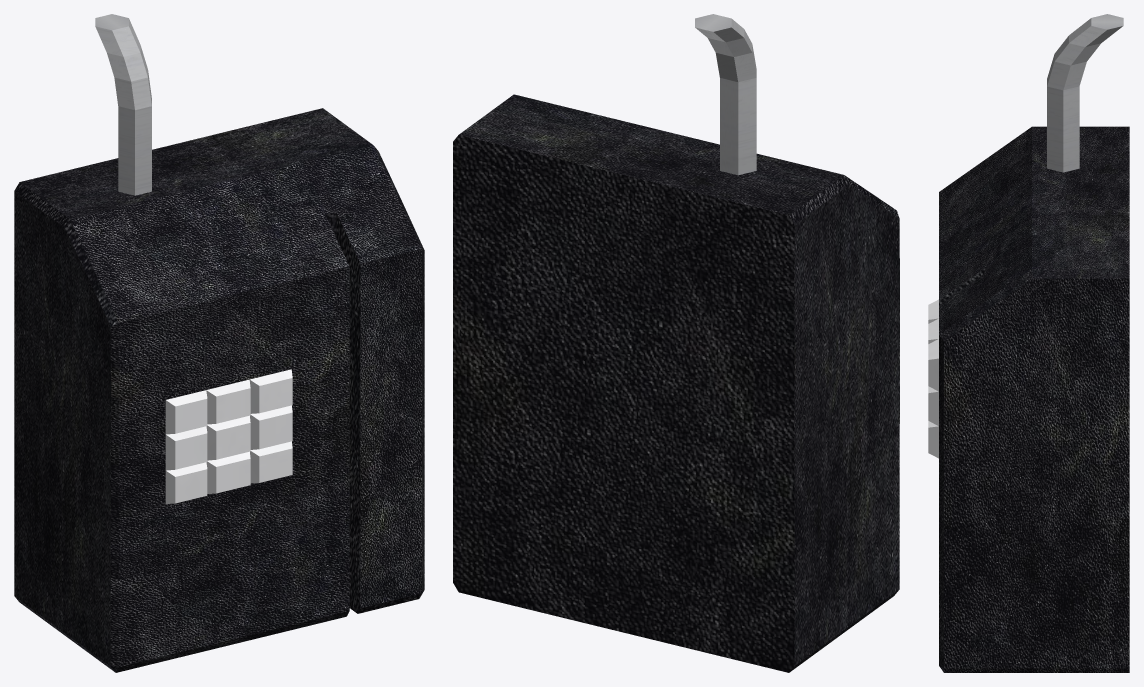
The model's file is Kitchen_FrontDoor_CardKeyReader_w_Textures.fbx.
The picture shows the model from 3 angles, left to right: view 1: azimuth 30°, elevation 25°; view 2: azimuth 150°, elevation 25°; view 3: azimuth 270°, elevation 25°; orthographic projection. The views are drawn at different scales.
Parts seen in each view (by area): view 1: KeyCardReader_Body, KeyCardReader_Wire; view 2: KeyCardReader_Body, KeyCardReader_Wire; view 3: KeyCardReader_Body, KeyCardReader_Wire.
Boxes of the visible parts, box(x1,y1,x2,y2) form: KeyCardReader_Body: box(14, 108, 424, 672); KeyCardReader_Wire: box(95, 14, 151, 195); KeyCardReader_Body: box(453, 94, 899, 672); KeyCardReader_Wire: box(695, 14, 756, 175); KeyCardReader_Body: box(928, 126, 1129, 672); KeyCardReader_Wire: box(1047, 14, 1123, 172).
Bounding box in the file's own units: 12.56 × 21.76 × 7.25.
